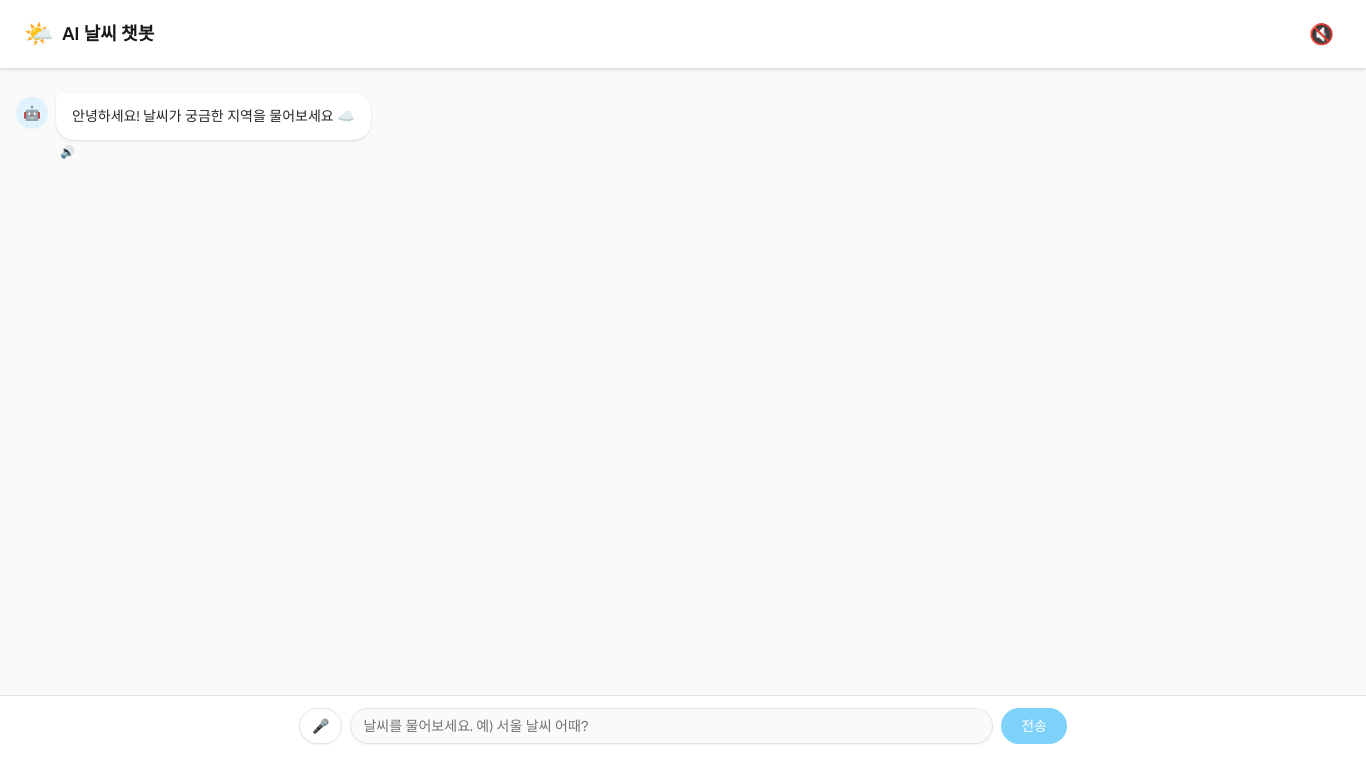
Test case: TTS (음성 출력) › 자동 읽기 토글 클릭 시 켜진다
This screenshot has width=1366, height=768.
Click the button named "자동 읽기 켜기".
click(1322, 34)  # box x1=1301 y1=16 x2=1342 y2=52
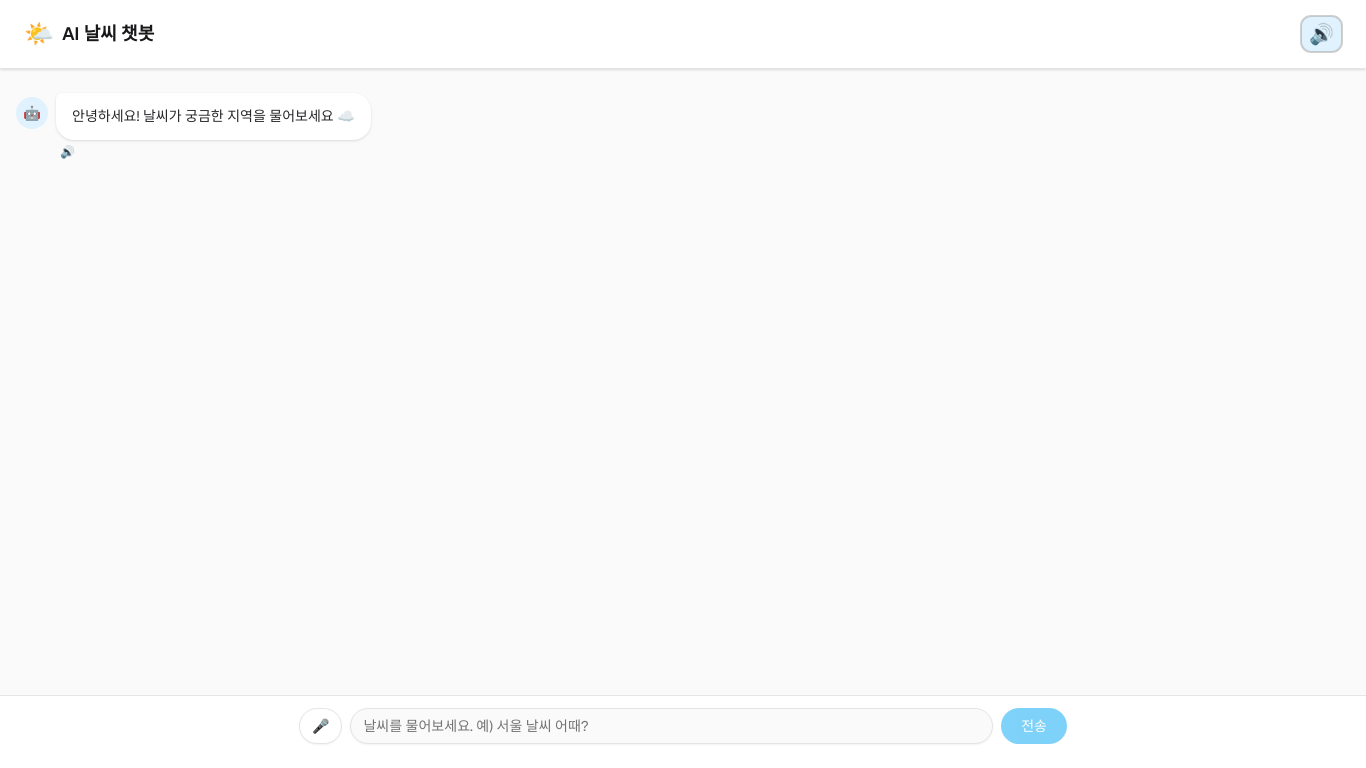
expect the button named "자동 읽기 끄기" is shown: met, box x1=1301 y1=16 x2=1342 y2=52
